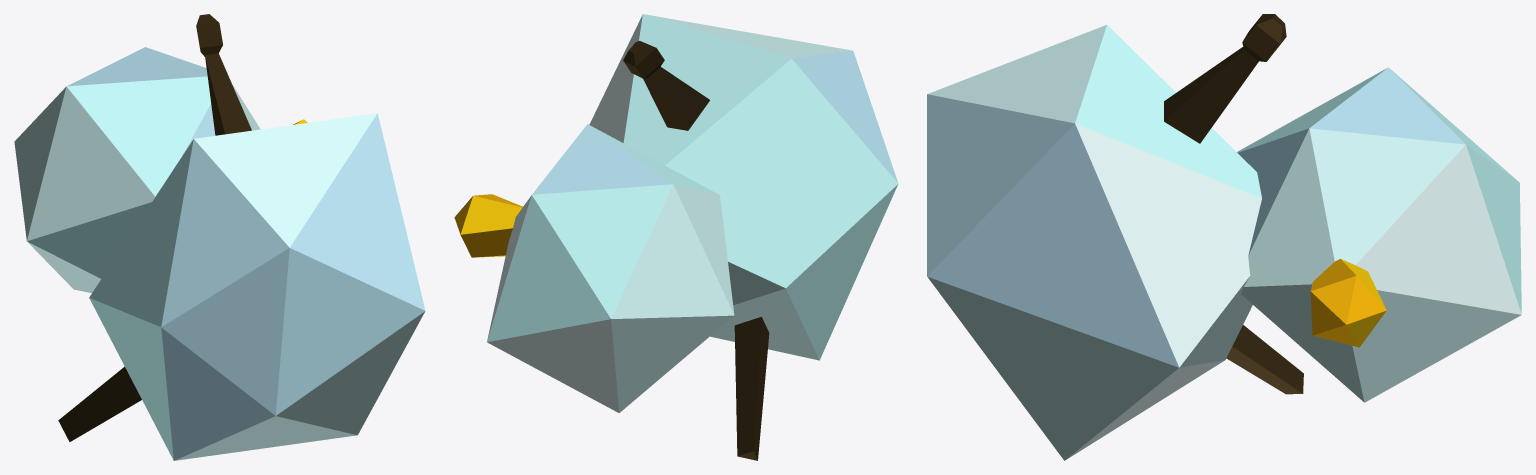
Rendered from winter_snowman.fbx.
3 renders of one model, left to right at view 1: azimuth 30°, elevation 25°; view 2: azimuth 150°, elevation 25°; view 3: azimuth 270°, elevation 25°, orthographic. The views are drawn at different scales.
Parts seen in each view (by area): view 1: winter_snowman; view 2: winter_snowman; view 3: winter_snowman.
Boxes of the visible parts, x1,y1,x2,y2 form: winter_snowman: (14, 14, 425, 460); winter_snowman: (454, 14, 898, 460); winter_snowman: (927, 14, 1521, 460).
Bounding box in the file's own units: 88.01 × 106 × 127.
